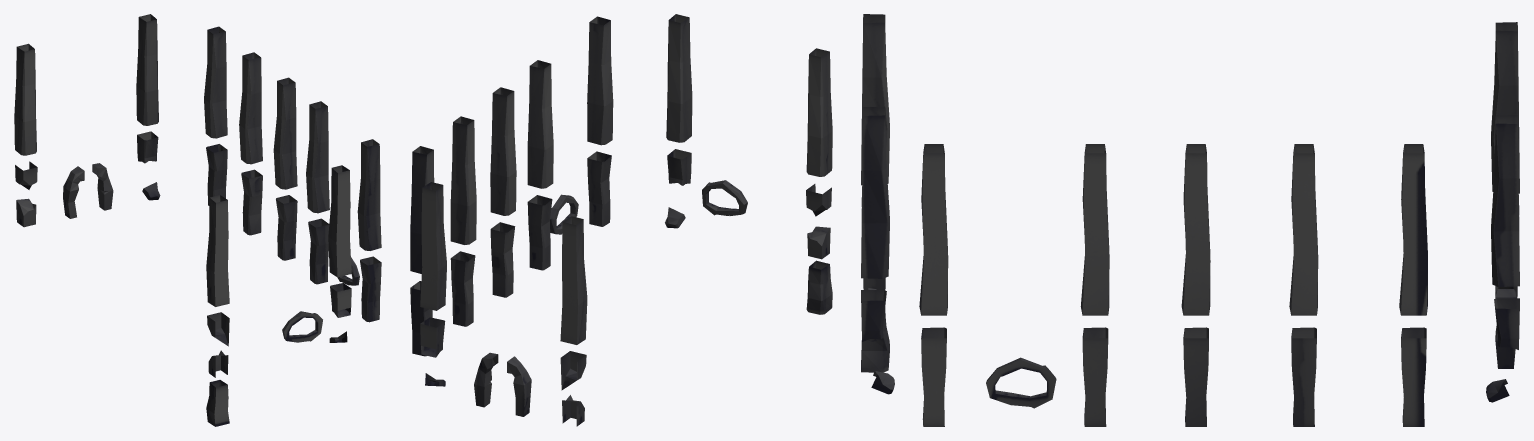
Rendered from Wall_02.FBX.
3 renders of one model, left to right at view 1: azimuth 30°, elevation 25°; view 2: azimuth 150°, elevation 25°; view 3: azimuth 270°, elevation 25°, orthographic. The views are drawn at different scales.
Parts seen in each view (by area): view 1: Wall_02; view 2: Wall_02; view 3: Wall_02.
Boxes of the visible parts, x1,y1,x2,y2 form: Wall_02: [14, 14, 381, 426]; Wall_02: [410, 14, 832, 426]; Wall_02: [861, 14, 1519, 426].
Size of the model in its own units: 12.99 by 14.89 by 25.53.
